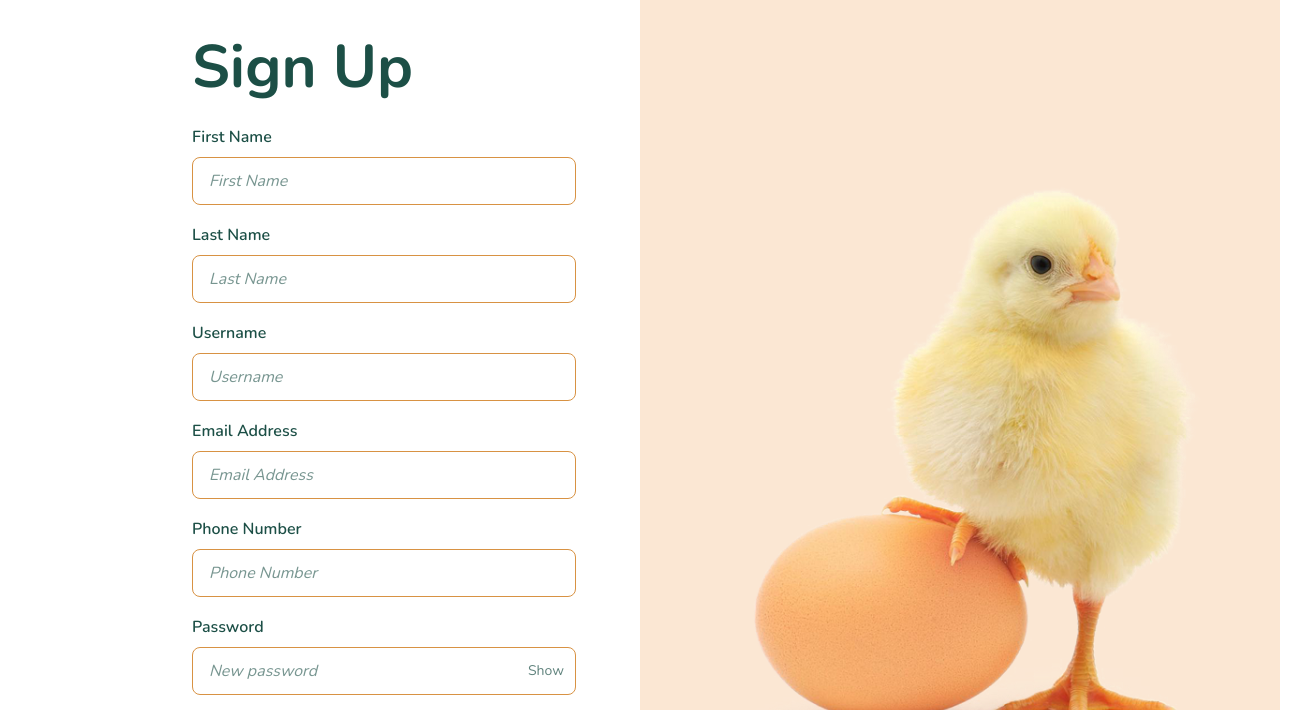
Test: SignUp Component › shows error message on registration failure
Step 1. Type "Fail" into the field with placeholder "First Name" → (384, 181), box [192,157,576,205]
Step 2. Type "Case" into the field with placeholder "Last Name" → (384, 279), box [192,255,576,303]
Step 3. Type "failcase" into the field with placeholder "Username" → (384, 377), box [192,353,576,401]
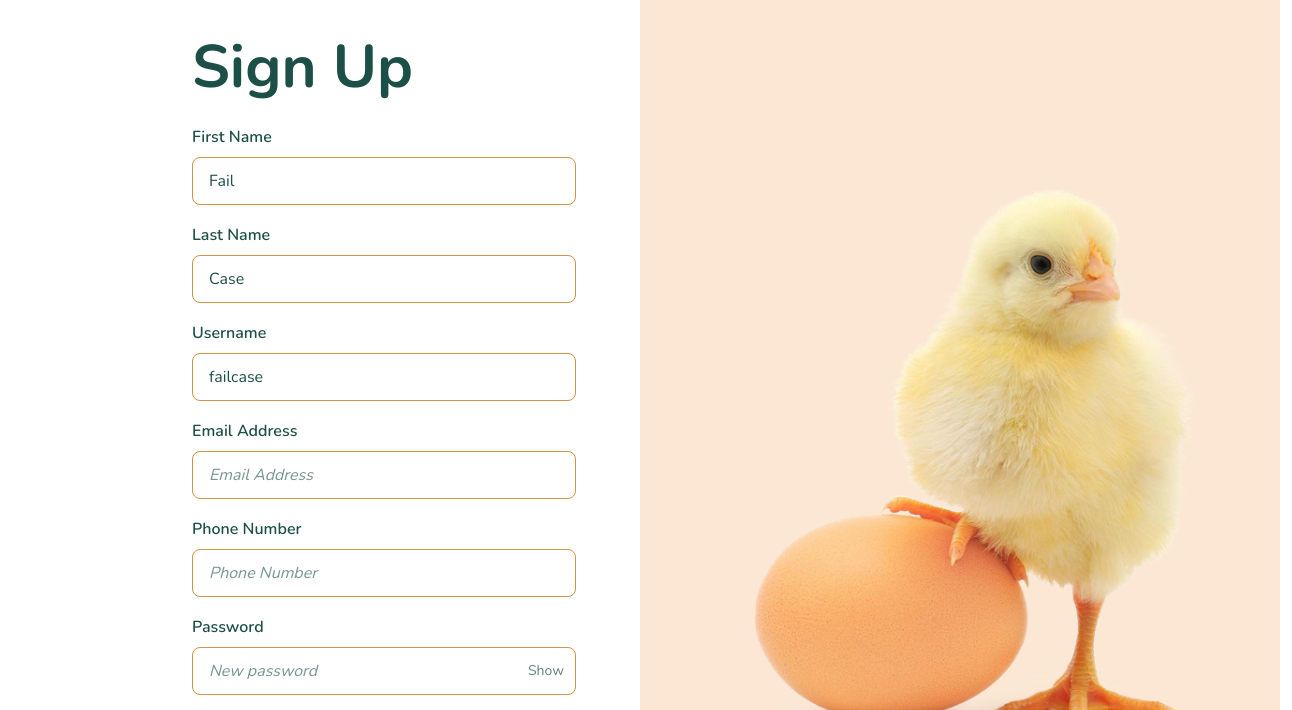
Step 4. Type "fail@example.com" into the field with placeholder "Email Address" → (384, 475), box [192,451,576,499]
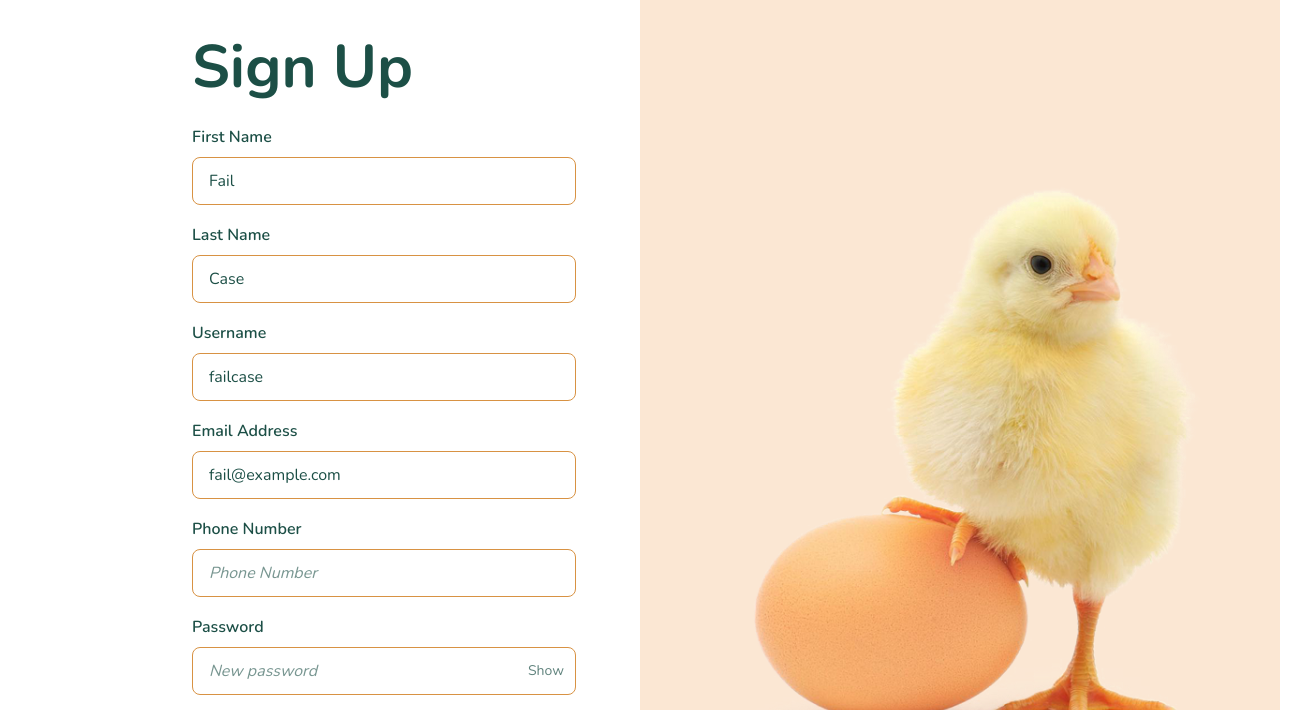
Step 5. Type "0000000000" into the field with placeholder "Phone Number" → (384, 573), box [192,549,576,597]
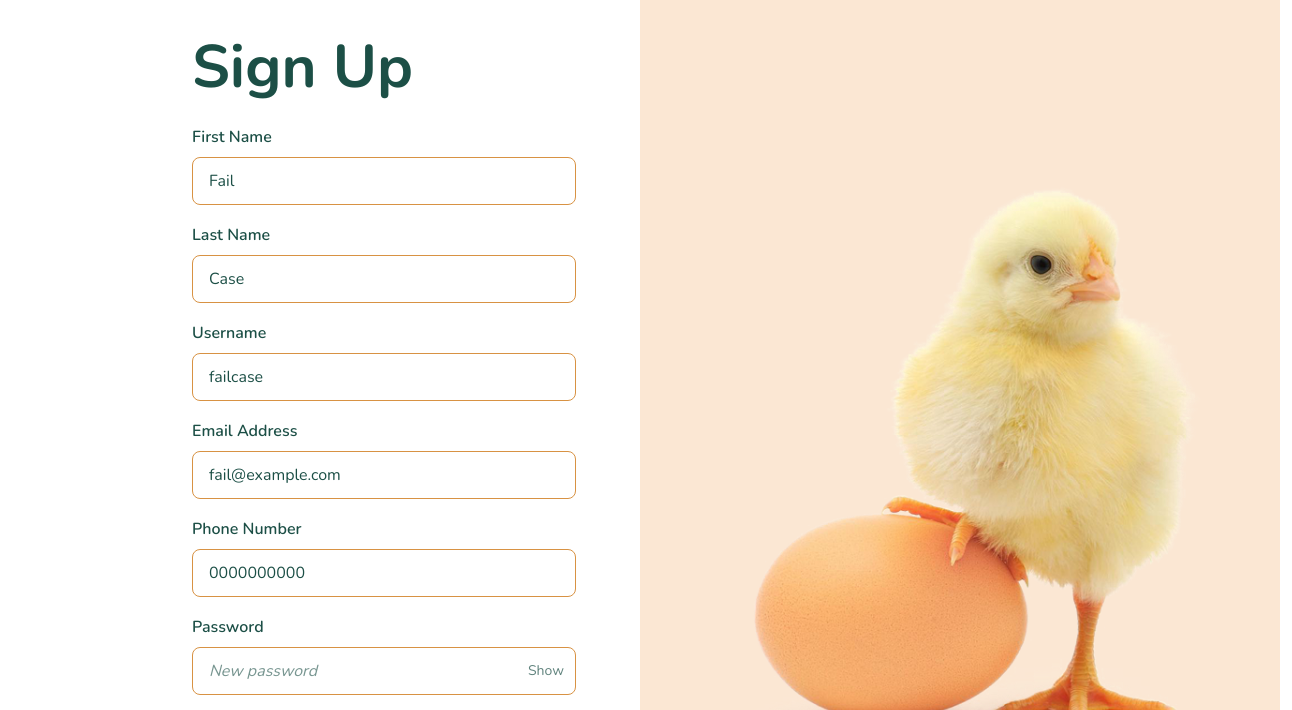
Step 6. Type "password321" into the password field with placeholder "New password" → (384, 671), box [192,647,576,695]
(page scrolled)
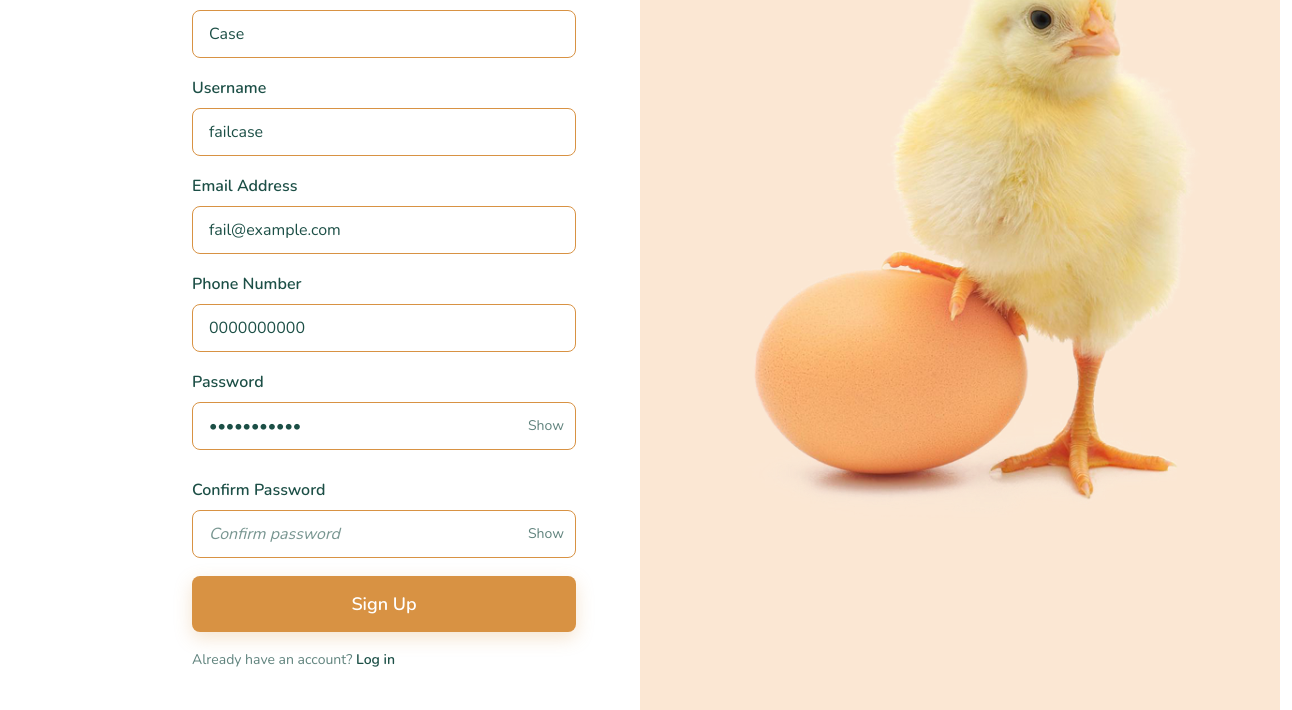
Step 7. Type "password321" into the password field with placeholder "Confirm Password" → (384, 534), box [192,510,576,558]
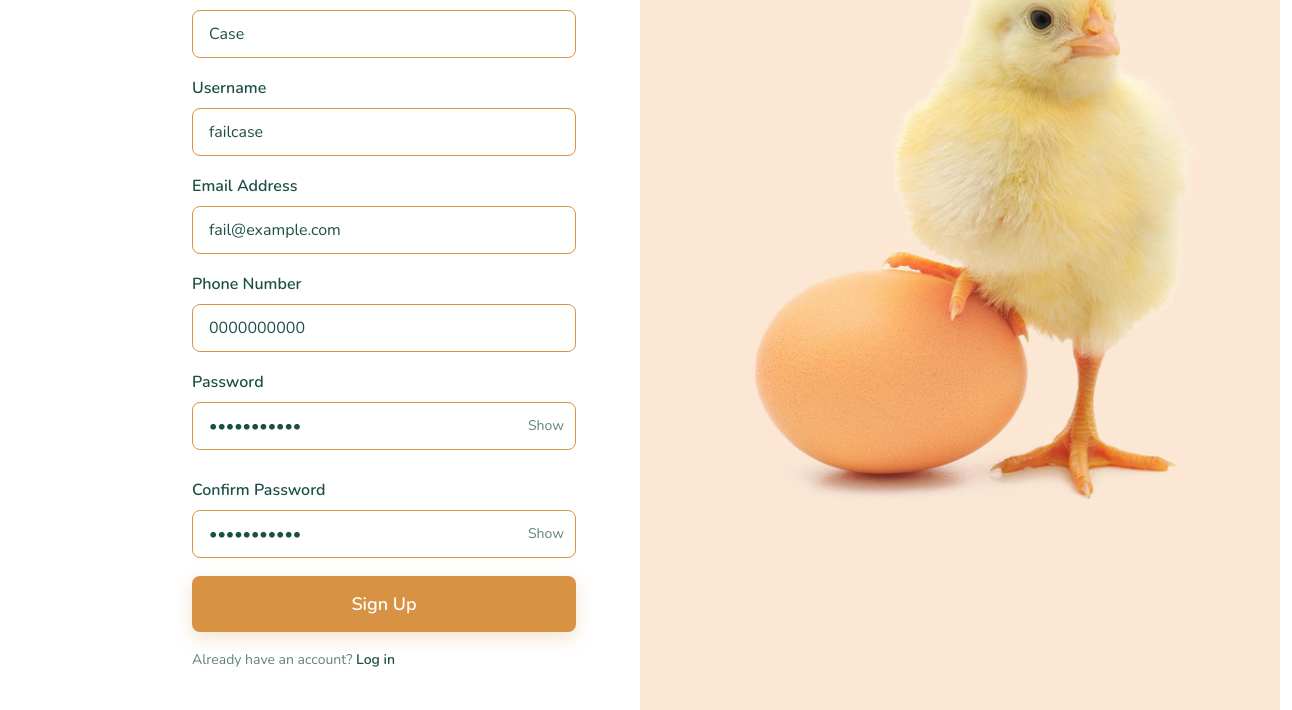
Step 8. Click the button "Sign Up" → (384, 604), box [192,576,576,632]
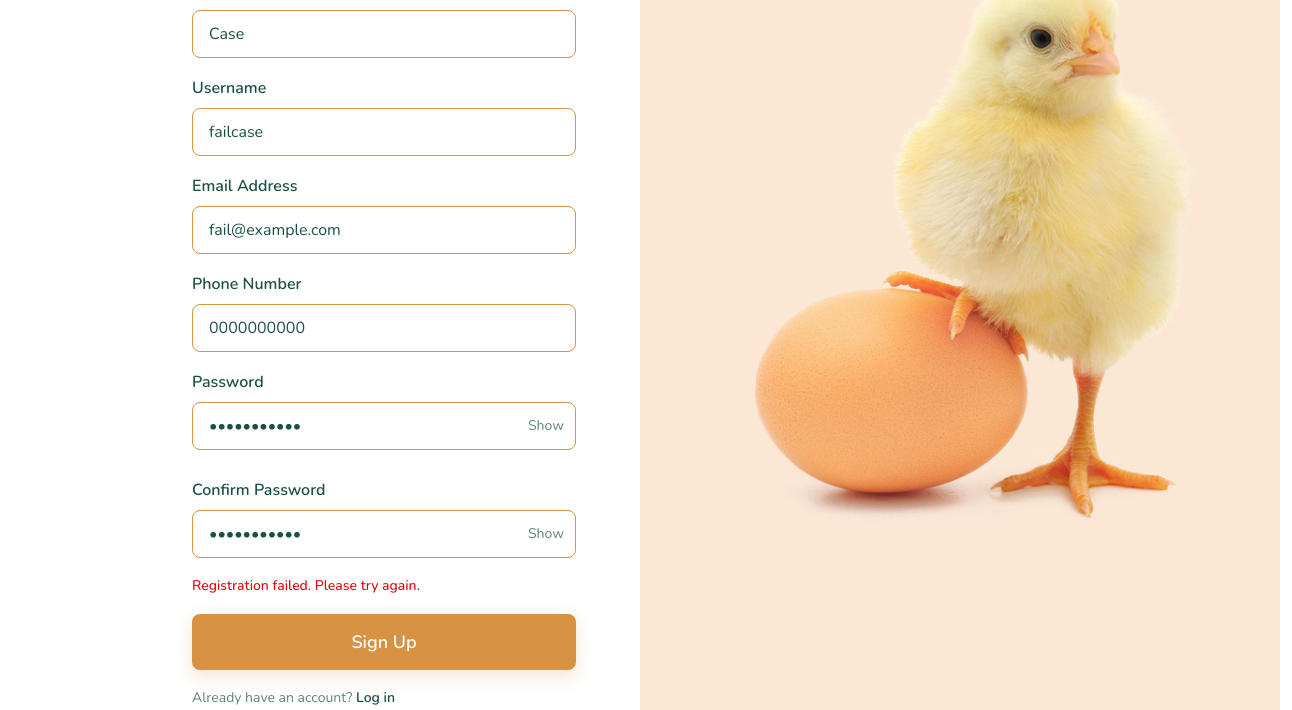
Expected: the text "Registration failed. Please try again." is shown, [192,576,420,595]
